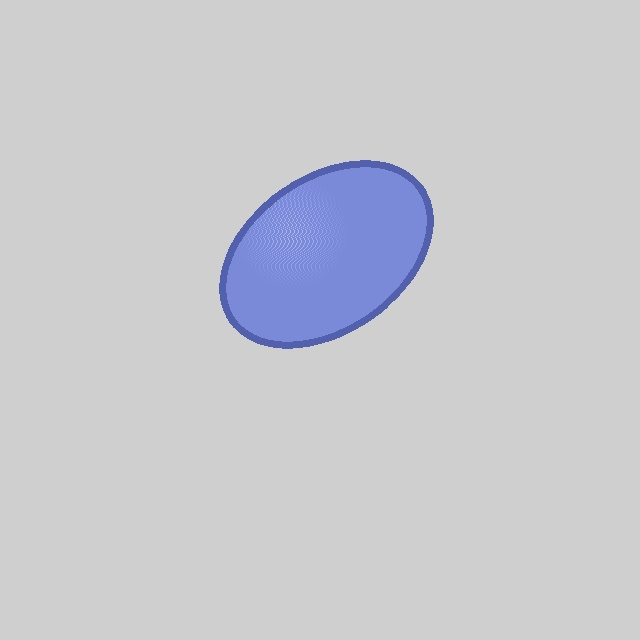lens: (223, 163, 429, 345)
